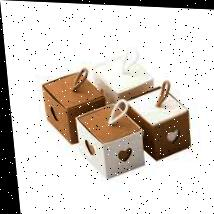cube: (73, 102, 142, 180), (125, 87, 190, 159)
